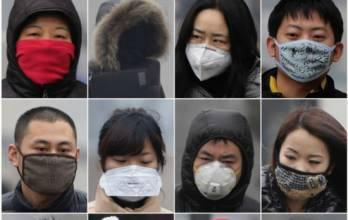OK: (17, 23, 76, 82), (105, 144, 159, 201), (23, 138, 76, 193), (281, 25, 334, 80), (185, 26, 233, 78), (195, 147, 242, 197)
WRONG: (278, 144, 328, 197)
